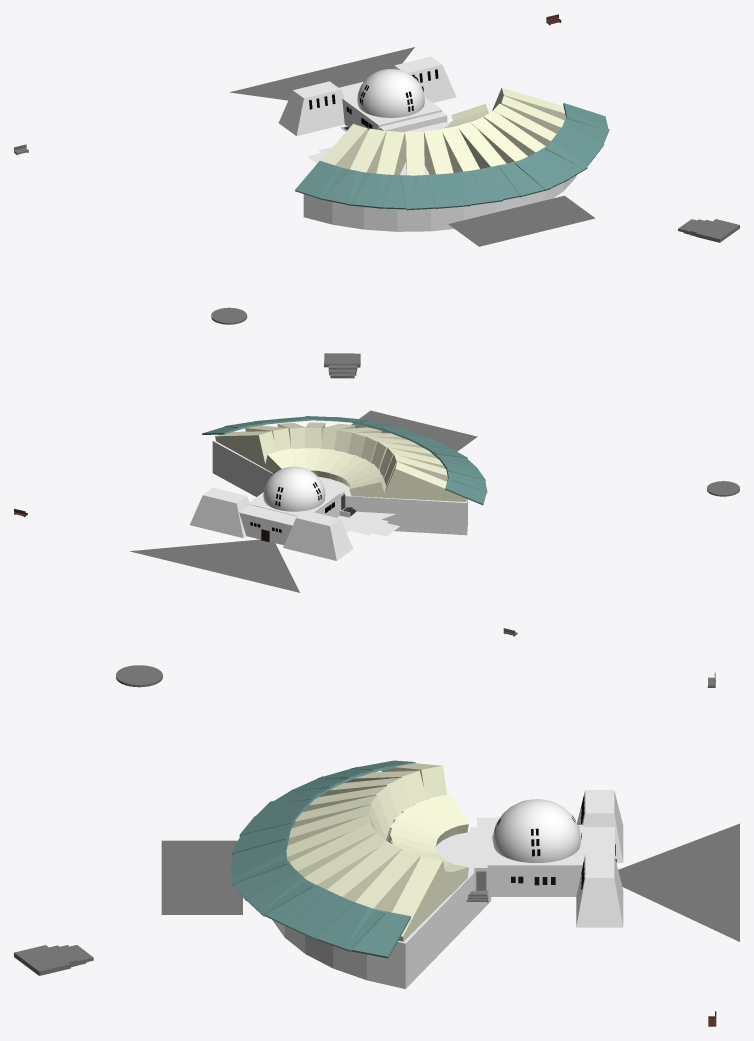
Rendered from asmundarsafn_nyasta.obj.
3 views of the same model, one above another, from view 1: azimuth 30°, elevation 25°; view 2: azimuth 150°, elevation 25°; view 3: azimuth 270°, elevation 25° (orthographic). The views are drawn at different scales.
Parts seen in each view (by area): view 1: Cube.047, Cube.033, syningarsalur, Plane.035, pavement, Sphere, h_hlid, v_hlid, innanhus, Cube, Cube.019, Cylinder; view 2: Cube.033, syningarsalur, pavement, Cube.047, h_hlid, Sphere, v_hlid, Plane.035, adaldyr, Cube, innanhus, Plane.001; view 3: Cube.033, Cube.047, pavement, syningarsalur, Plane.035, Sphere, innanhus, v_hlid, h_hlid, Cube, adaldyr, Cylinder (+1 smaller).
Boxes of the visible parts, box(x1,y1,x2,y2) form: Cube.047: box(295, 103, 609, 210); Cube.033: box(321, 87, 565, 175); syningarsalur: box(303, 122, 576, 231); Plane.035: box(448, 195, 595, 246); pavement: box(229, 47, 414, 100); Sphere: box(357, 69, 424, 117); h_hlid: box(278, 81, 344, 136); v_hlid: box(393, 56, 456, 102); innanhus: box(342, 94, 442, 130); Cube: box(678, 219, 739, 242); Cube.019: box(379, 112, 447, 131); Cylinder: box(211, 307, 247, 324); Cube.033: box(215, 422, 466, 501); syningarsalur: box(212, 440, 467, 535); pavement: box(130, 539, 299, 592); Cube.047: box(202, 416, 487, 505); h_hlid: box(283, 510, 353, 560); Sphere: box(263, 466, 325, 511); v_hlid: box(190, 487, 250, 538); Plane.035: box(351, 410, 477, 451); adaldyr: box(239, 505, 297, 545); Cube: box(324, 353, 360, 378); innanhus: box(250, 489, 340, 517); Plane.001: box(337, 511, 395, 532); Cube.033: box(286, 763, 468, 941); Cube.047: box(230, 760, 415, 958); pavement: box(618, 823, 739, 941); syningarsalur: box(272, 831, 491, 988); Plane.035: box(161, 840, 242, 914); Sphere: box(493, 799, 580, 862); innanhus: box(487, 825, 584, 896); v_hlid: box(576, 854, 623, 927); h_hlid: box(577, 790, 623, 862); Cube: box(14, 945, 93, 975); adaldyr: box(584, 827, 614, 856); Cylinder: box(116, 665, 162, 687).
Bounding box in the file's own units: 72.47 × 9.13 × 61.73.
